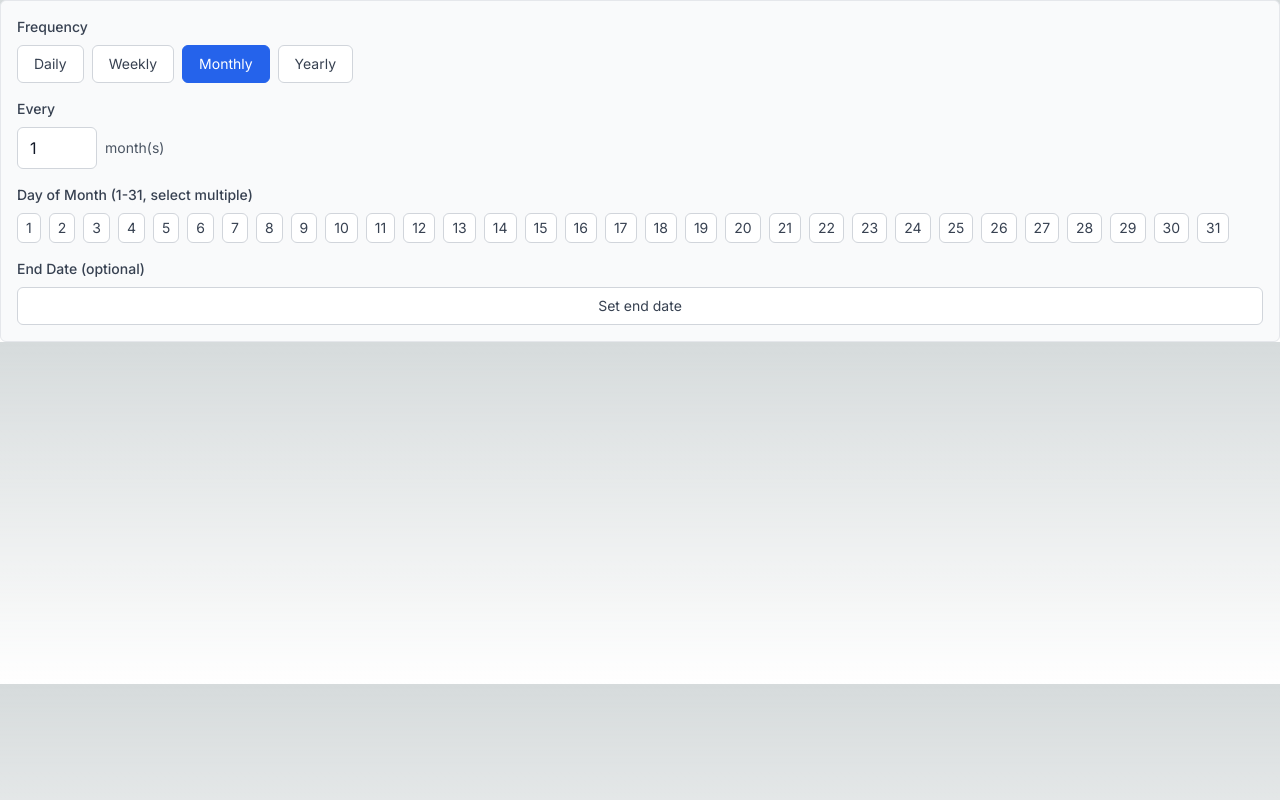
Scenario: RecurrenceControl Component › should handle interval input for daily frequency
Click the button "daily". click: (50, 64)
box: x1=17 y1=45 x2=84 y2=83
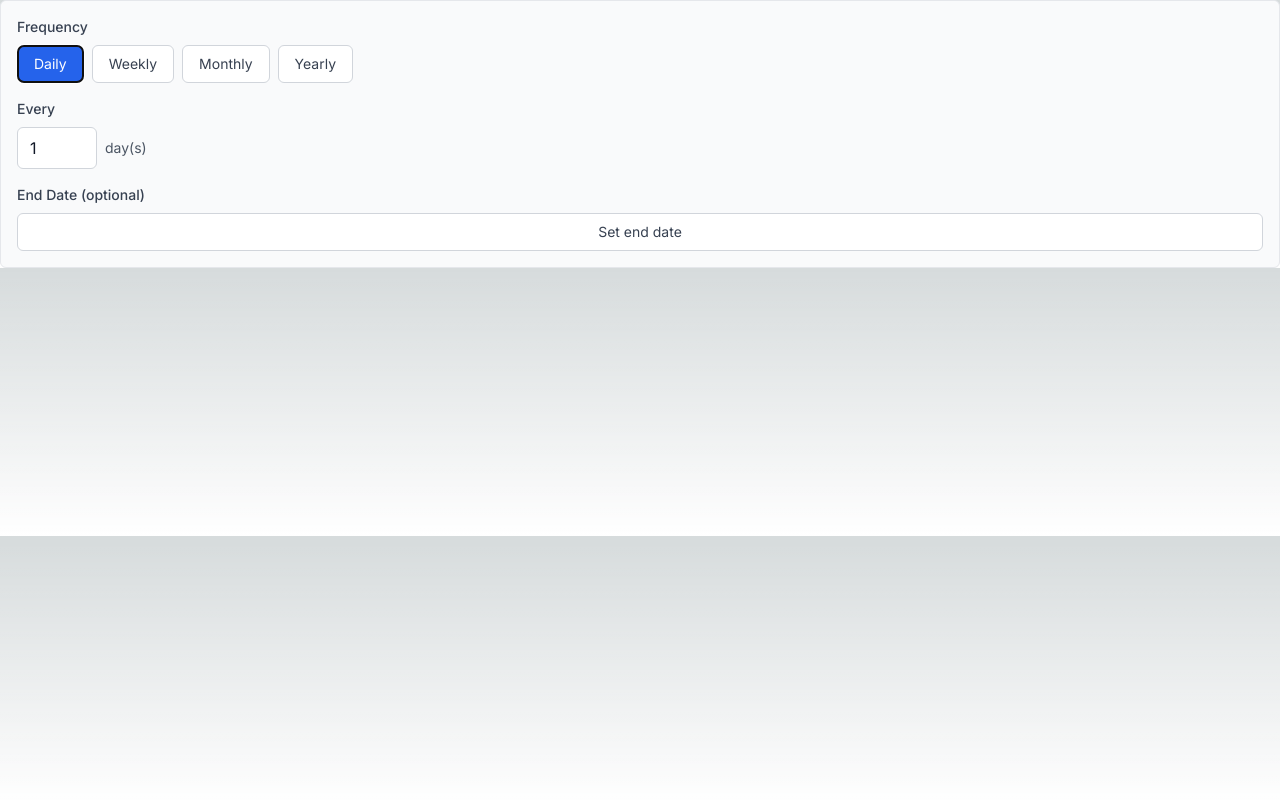
Expected: the text "Every" is shown, x1=17 y1=100 x2=55 y2=117
// Change the value - focus, select all, then type
Click the number field. click: (57, 148)
box: x1=17 y1=127 x2=97 y2=169
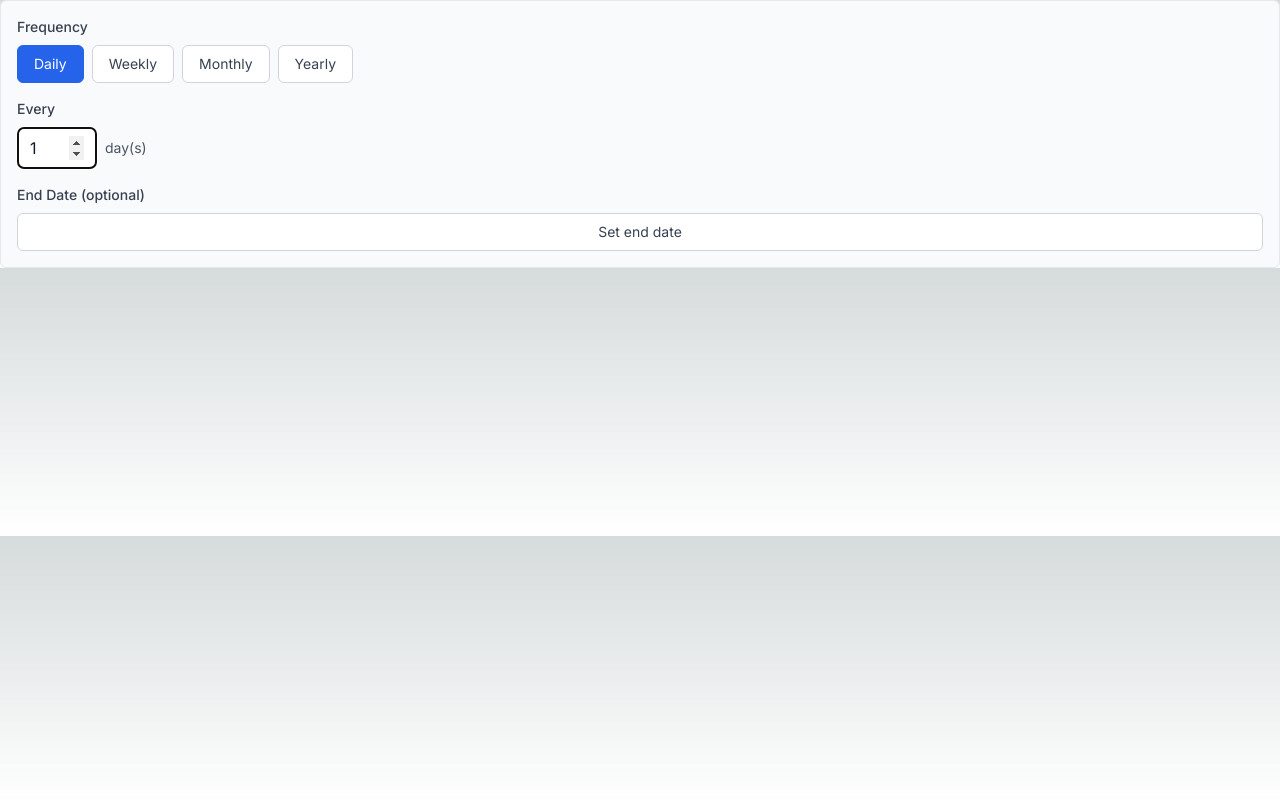
// Use keyboard to select all (Ctrl+A / Cmd+A) then type
Type keys "{Control>}a{/Control}3"
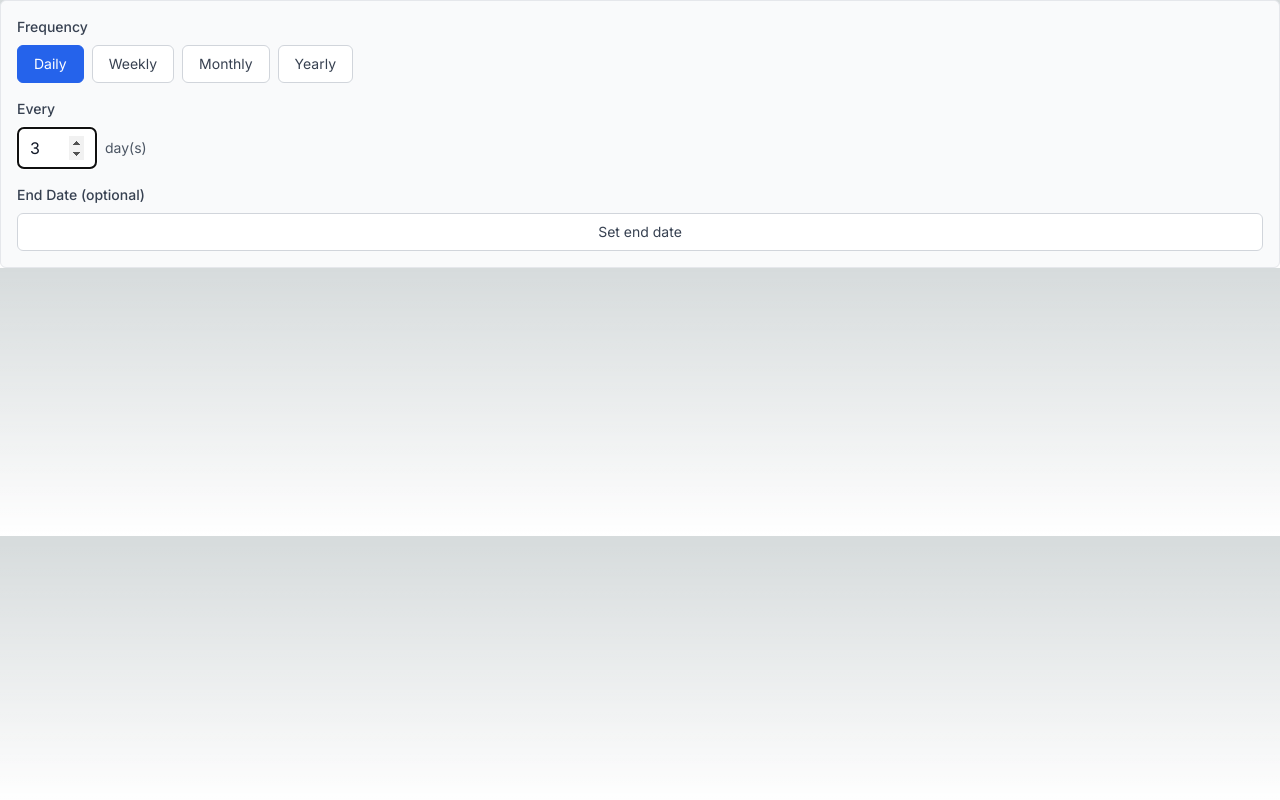
Expected: the number field holds "3", x1=17 y1=127 x2=97 y2=169
